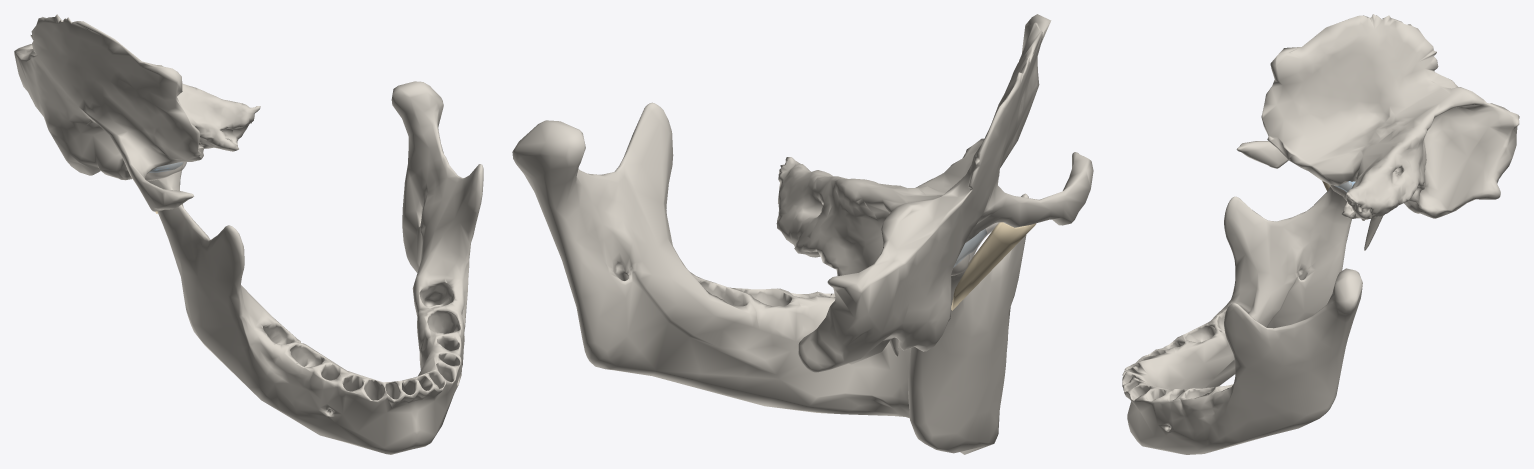
Rendered from tmj.glb.
The picture shows the model from 3 angles, left to right: view 1: azimuth 30°, elevation 25°; view 2: azimuth 150°, elevation 25°; view 3: azimuth 270°, elevation 25°; orthographic projection. The views are drawn at different scales.
Parts seen in each view (by area): view 1: Mandible, Temporal_boner; view 2: Mandible, Temporal_boner, Lateral_temporomandibular_ligamentl, Articular_capsule_of_temporomandibular_jointr; view 3: Mandible, Temporal_boner.
Boxes of the visible parts, <box> form: Mandible: <box>145,81,483,454</box>; Temporal_boner: <box>14,14,260,211</box>; Mandible: <box>512,102,1028,454</box>; Temporal_boner: <box>776,14,1093,372</box>; Lateral_temporomandibular_ligamentl: <box>951,222,1035,310</box>; Articular_capsule_of_temporomandibular_jointr: <box>951,222,999,275</box>; Mandible: <box>1122,185,1362,454</box>; Temporal_boner: <box>1236,14,1519,250</box>.
Bounding box in the file's own units: 12.41 × 12.69 × 13.53.
